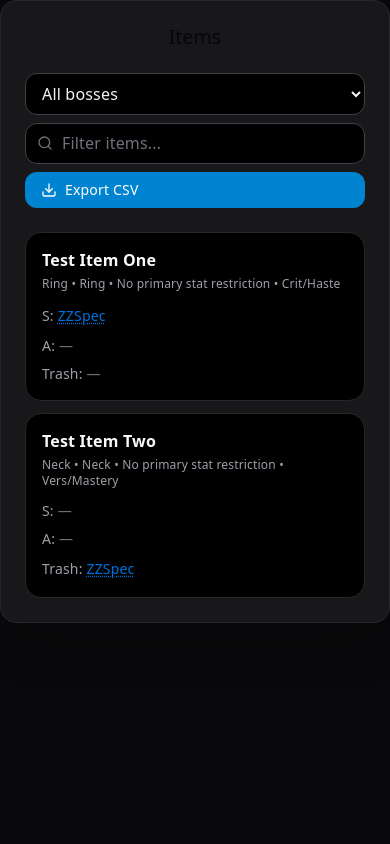
Scenario: RankedItemsList › inserts and removes inline details when selecting the same mobile card
Expected: the text "Rank 1 • Best fit" is not shown
Step 1. Click the button "Test Item One" → (99, 260), box [25,232,365,401]
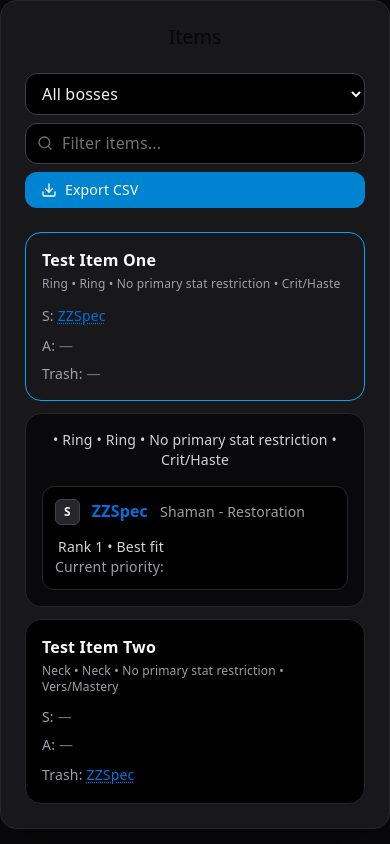
Expected: the text "Rank 1 • Best fit" is shown, [55,537,164,557]
Step 2. Click the button "Test Item One" → (99, 260), box [25,232,365,401]
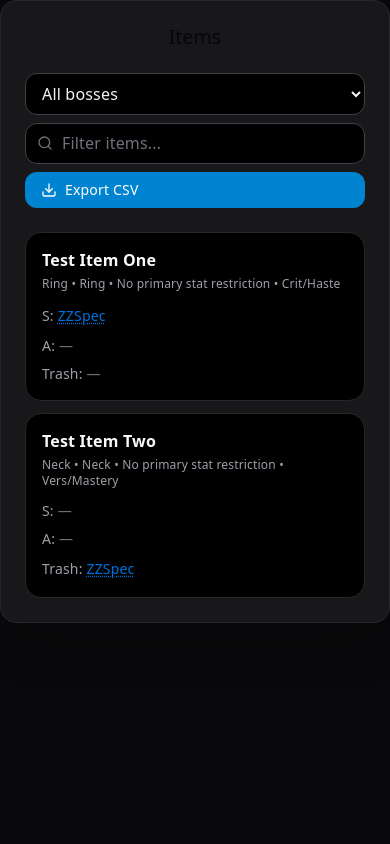
Expected: the text "Rank 1 • Best fit" is gone
